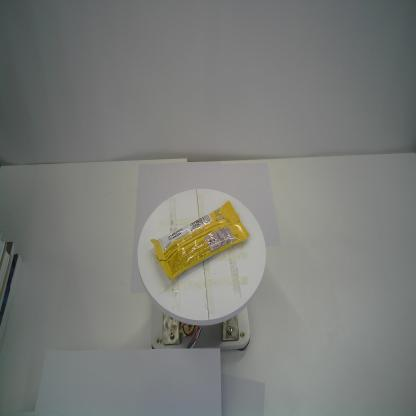Chocolate: (150, 198, 251, 280)
